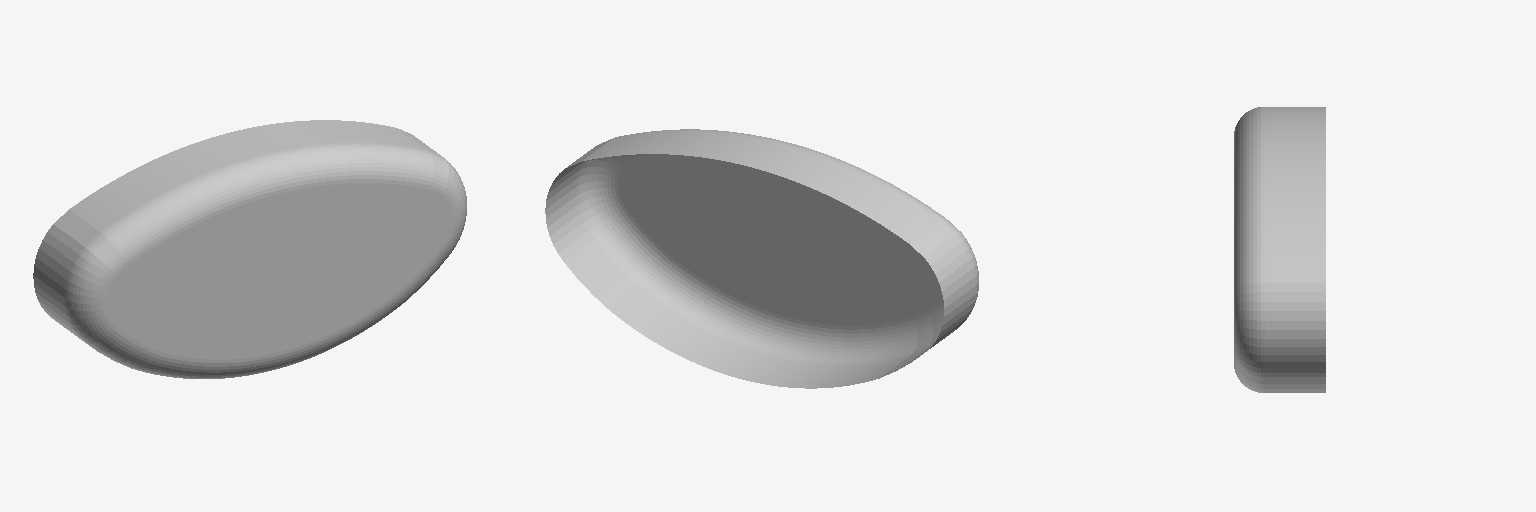
The model's file is original-36.obj.
The picture shows the model from 3 angles: view 1: azimuth 30°, elevation 25°; view 2: azimuth 150°, elevation 25°; view 3: azimuth 270°, elevation 25°; orthographic projection.
Visible parts, largest first — view 1: #ID221; view 2: #ID221; view 3: #ID221.
Part boxes in pixels (bbox=[...]): #ID221: bbox=[33, 120, 466, 378]; #ID221: bbox=[545, 129, 978, 388]; #ID221: bbox=[1234, 107, 1325, 392].
Size of the model in its own units: 0.1641 by 0.0843 by 0.033.